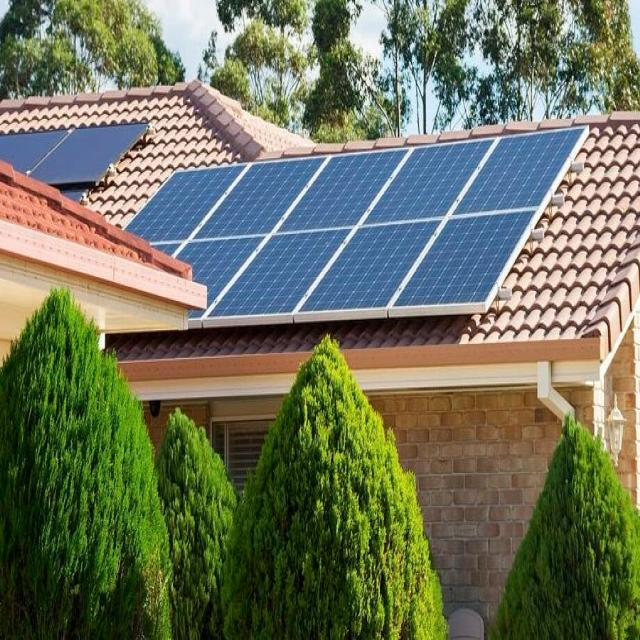clean-solar-panel: (126, 126, 587, 325)
